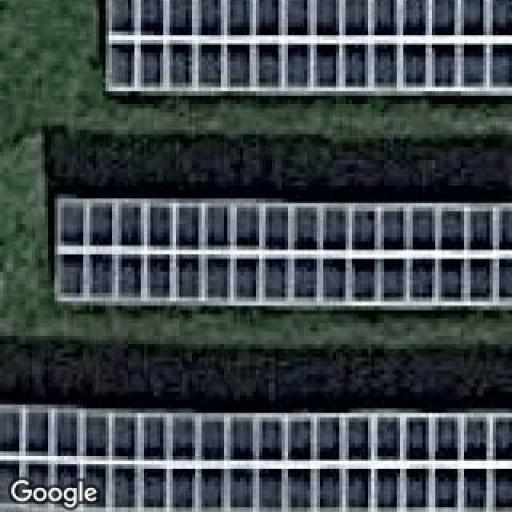solar-panel: (0, 408, 512, 512), (56, 200, 512, 310), (105, 0, 512, 89)
